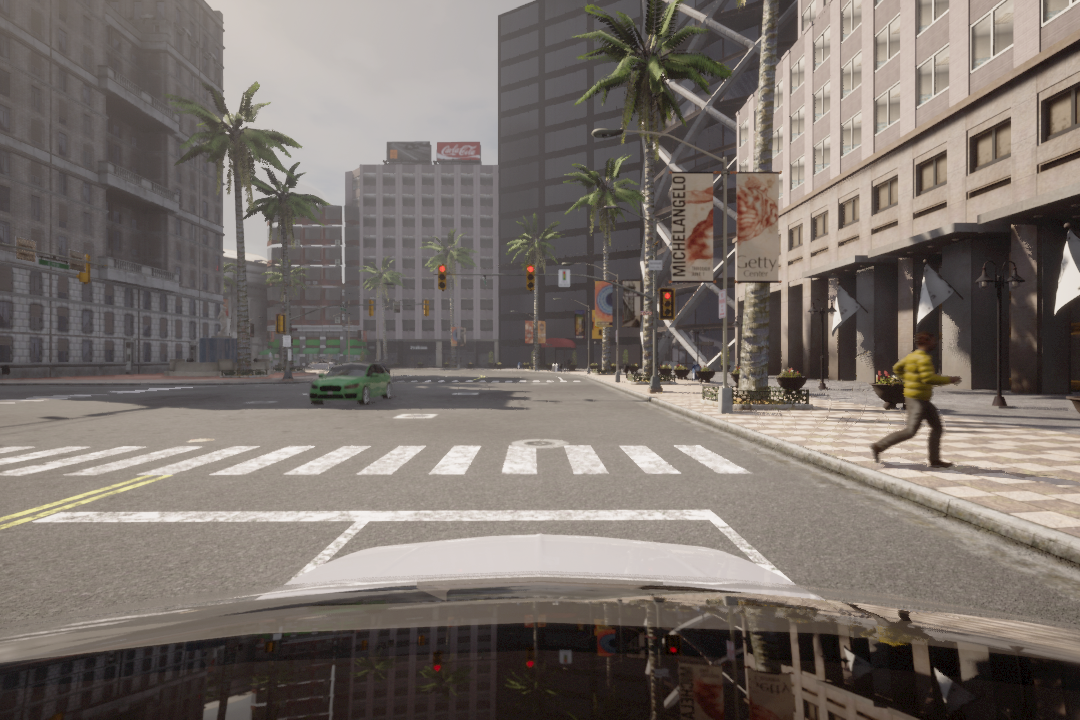TrafficLight: (661, 289, 677, 321), (436, 261, 449, 294), (523, 264, 535, 294)
walkside: (1, 442, 774, 483)
